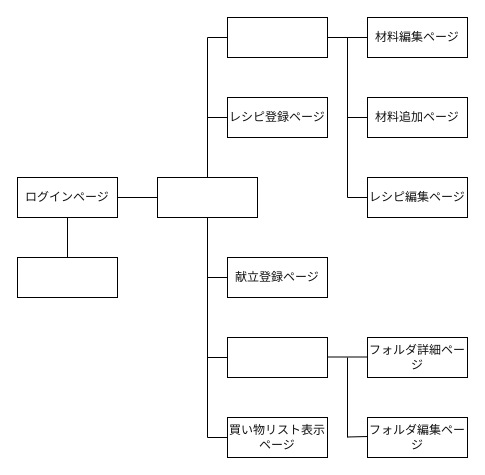
The diagram is 485 pixels wide and 475 high, and some of its shapes have lost their labels. The shapes that lost their labels are listed below. From the top down, each one's centre as x and y in pixels, then its label:
At pixel 277 37: "レシピ一覧ページ".
At pixel 207 197: "献立一覧ページ".
At pixel 67 277: "ユーザー登録ページ".
At pixel 277 357: "フォルダ一覧ページ".
